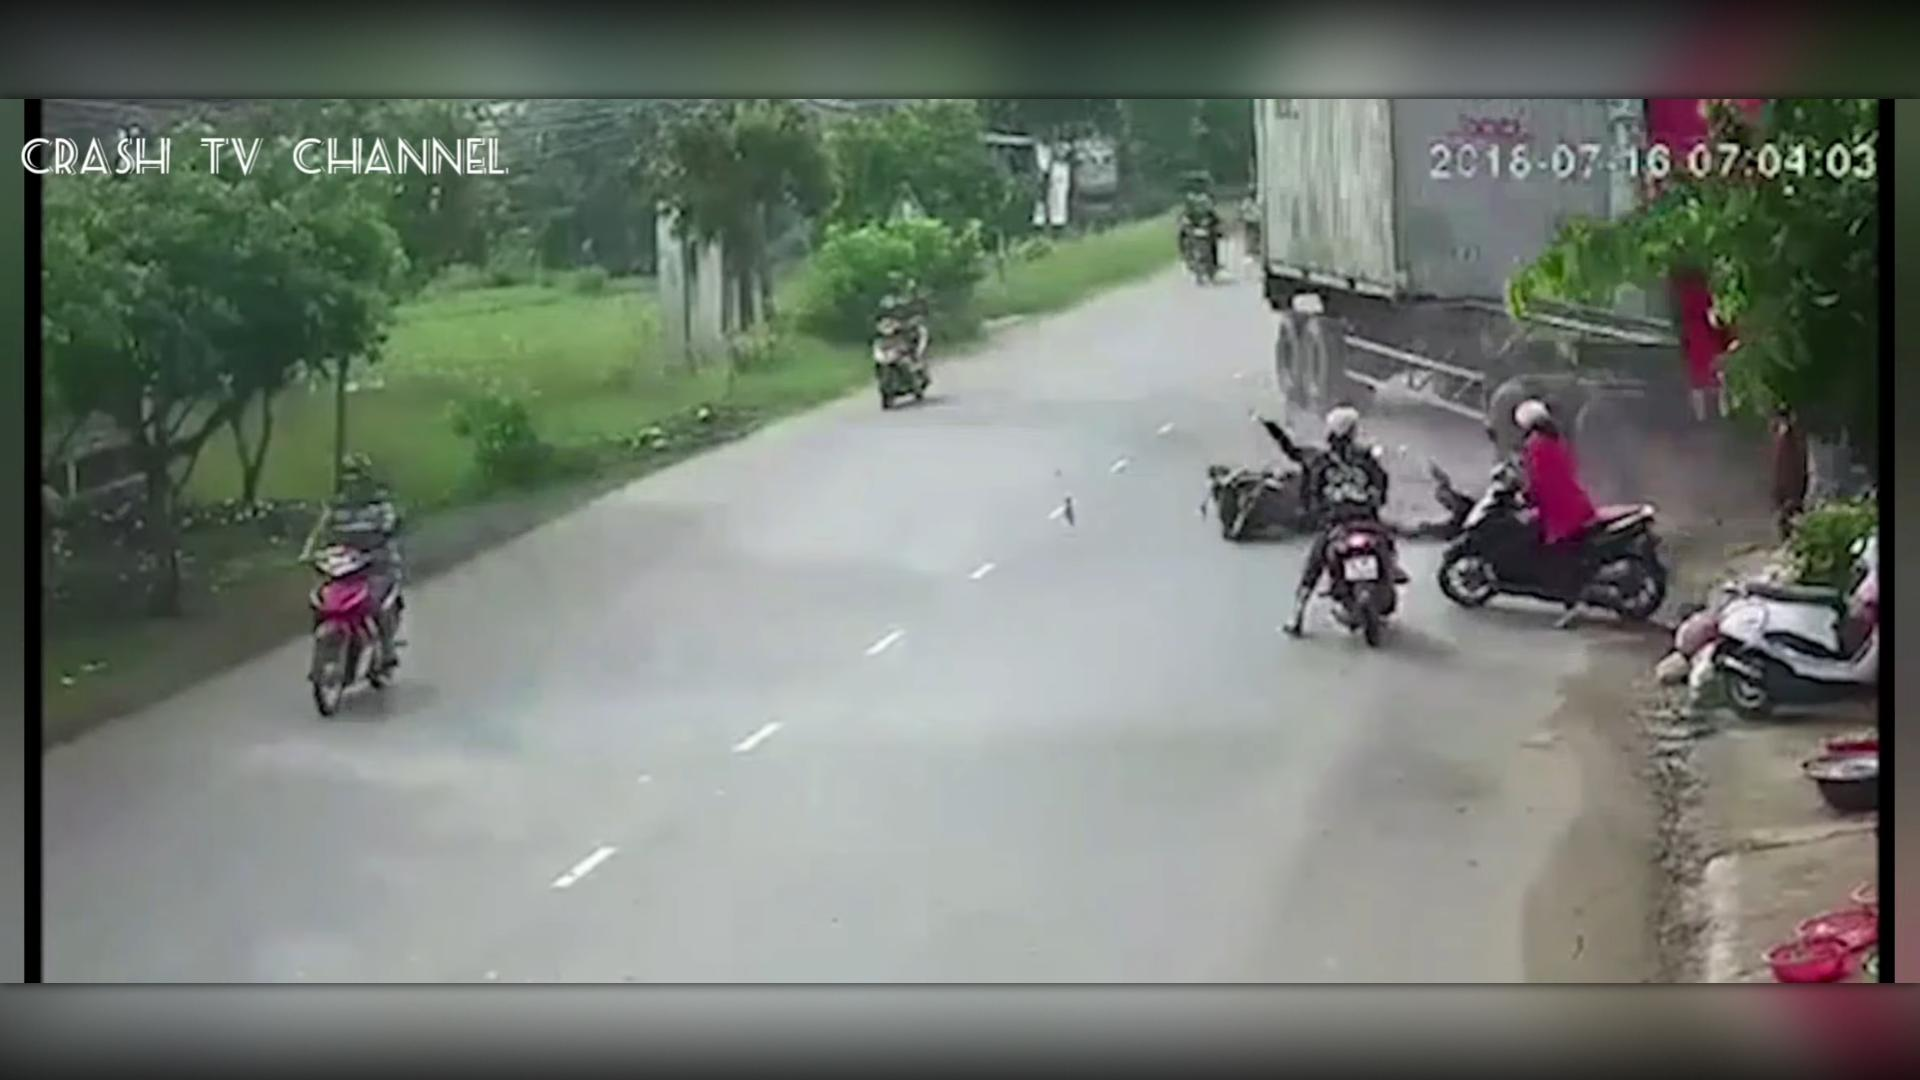accident: (1221, 407, 1516, 546)
motorcycle: (1428, 388, 1659, 645), (281, 440, 413, 750), (1304, 401, 1416, 663), (847, 266, 951, 415)
truck: (1205, 92, 1826, 480)
